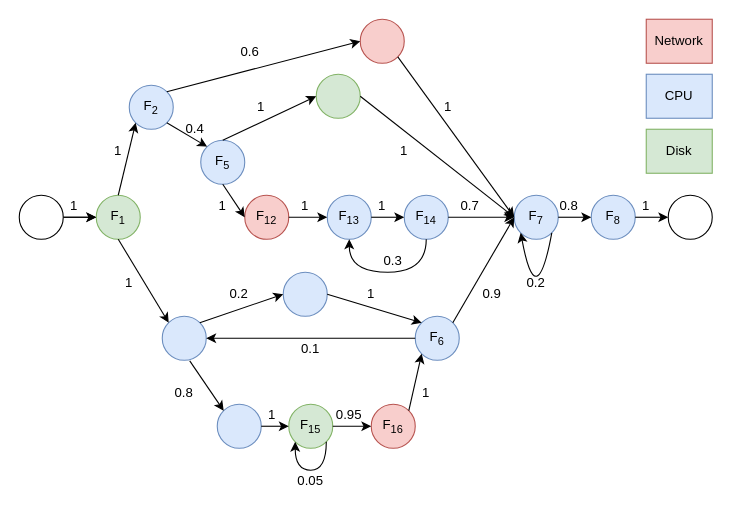
This 732x512 diagram has some shape labels left out. The shapes that lost their labels are listed below. From the top down, each one's centre as x and y in pixels, then its label:
the point at 381,40: F 4
the point at 337,95: F 11
the point at 40,216: start
the point at 689,216: end
the point at 304,293: F 10
the point at 183,337: F 3
the point at 238,425: F 9
